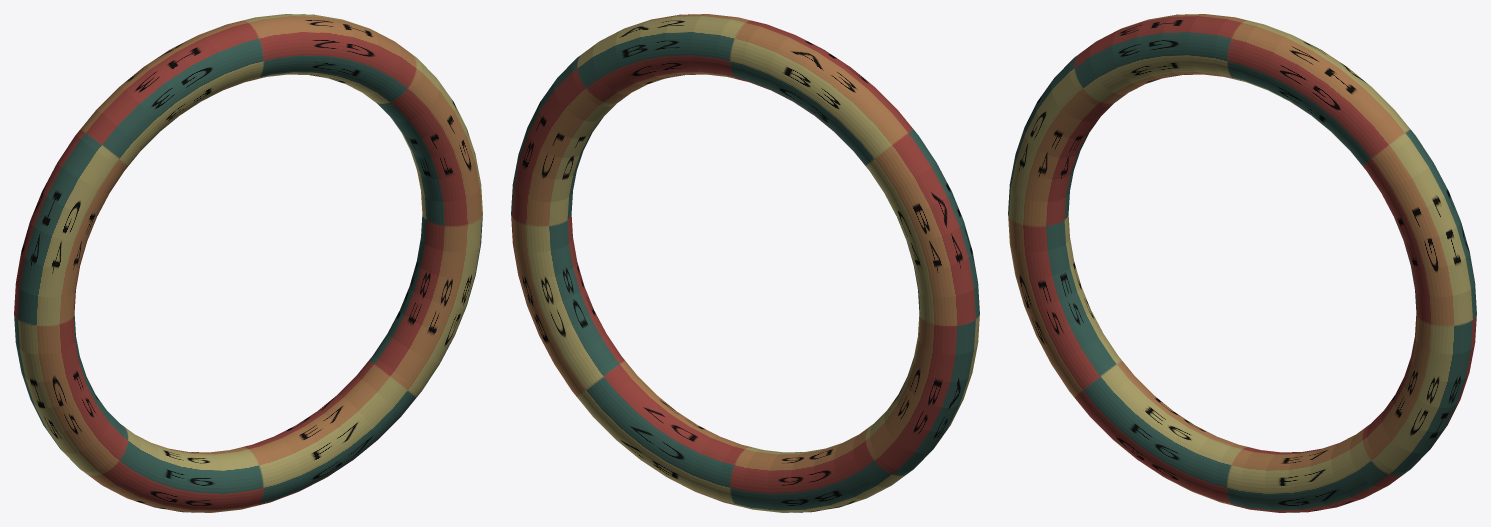
Rendered from texture_torus_R27_r6.glb.
The picture shows the model from 3 angles, left to right: view 1: azimuth 30°, elevation 25°; view 2: azimuth 150°, elevation 25°; view 3: azimuth 330°, elevation 25°; orthographic projection.
Visible parts, largest first — view 1: world; view 2: world; view 3: world.
Boxes of the visible parts, <box> form: world: <box>14,14,482,512</box>; world: <box>511,14,979,512</box>; world: <box>1008,14,1476,512</box>.
Bounding box in the file's own units: 31.6 × 31.54 × 3.59.
Materials: 1 (1 with a texture image).
